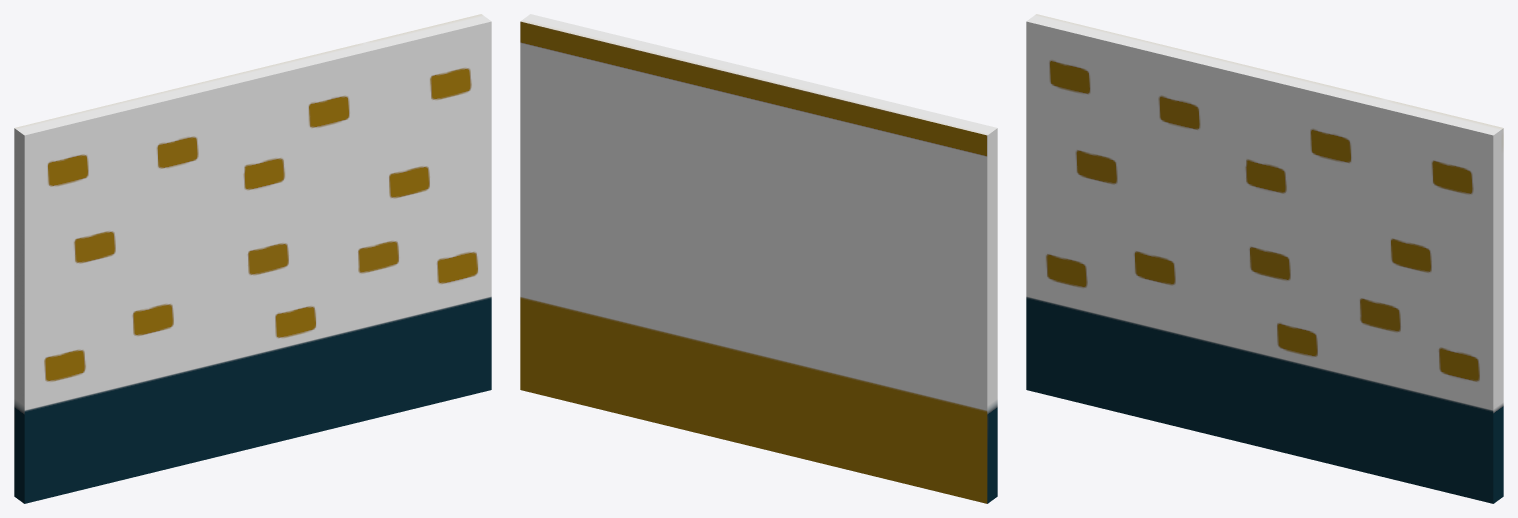
File: KHIP_Wall.FBX
3 renders of one model, left to right at view 1: azimuth 30°, elevation 25°; view 2: azimuth 150°, elevation 25°; view 3: azimuth 330°, elevation 25°, orthographic.
Parts seen in each view (by area): view 1: KHIP_Wall; view 2: KHIP_Wall; view 3: KHIP_Wall.
Part boxes in pixels (bbox=[...]): KHIP_Wall: bbox=[14, 14, 491, 503]; KHIP_Wall: bbox=[520, 14, 997, 503]; KHIP_Wall: bbox=[1026, 14, 1503, 503].
Bounding box in the file's own units: 189 × 142 × 7.17.
